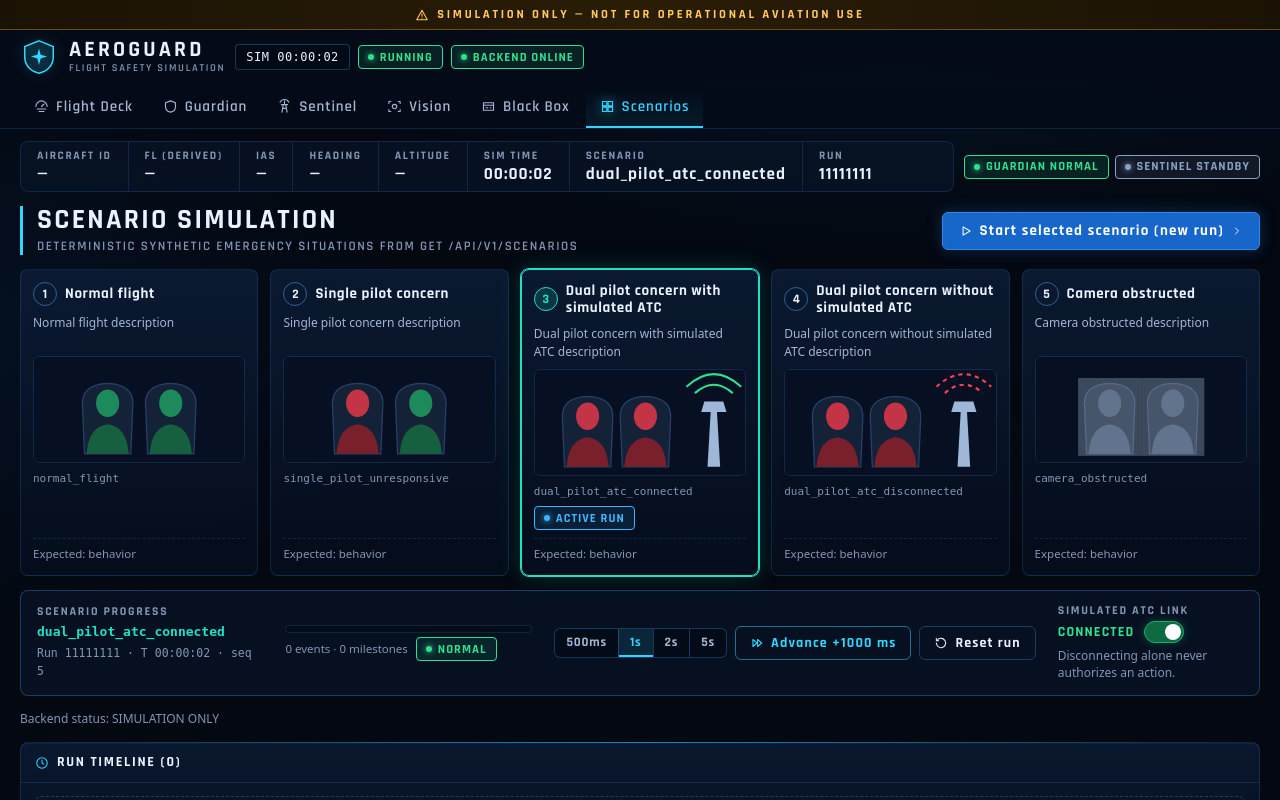
Test: REVIEW FIX 1: command-side HTTP 5xx is an uncertain outcome › does not report a 5xx as a backend rejection and retries with the SAME command_id
Click the button "Advance +1000 ms" at x=823, y=643, box [735,626,912,660]
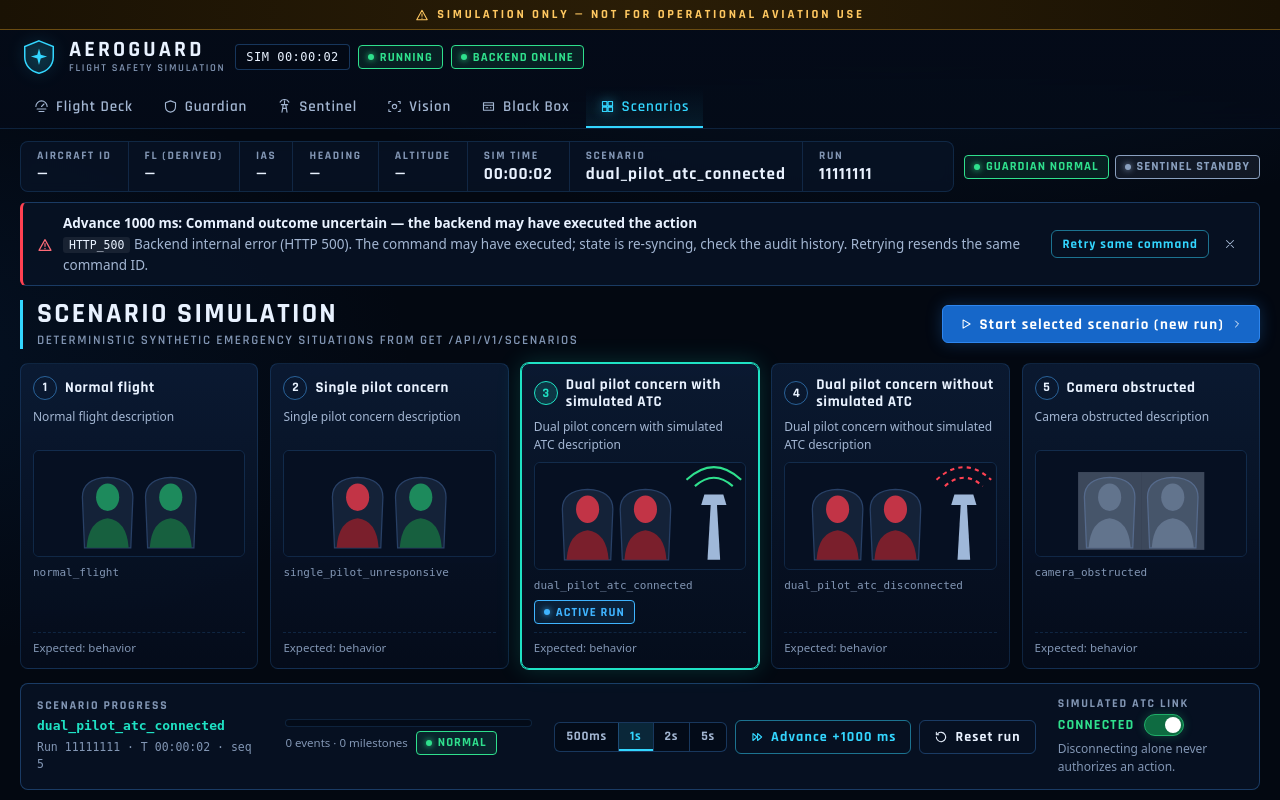
Expected: the text "Command outcome uncertain" is shown, [186,214,697,232]
Click the button "Retry same command" at x=1130, y=244, box [1052,230,1209,258]
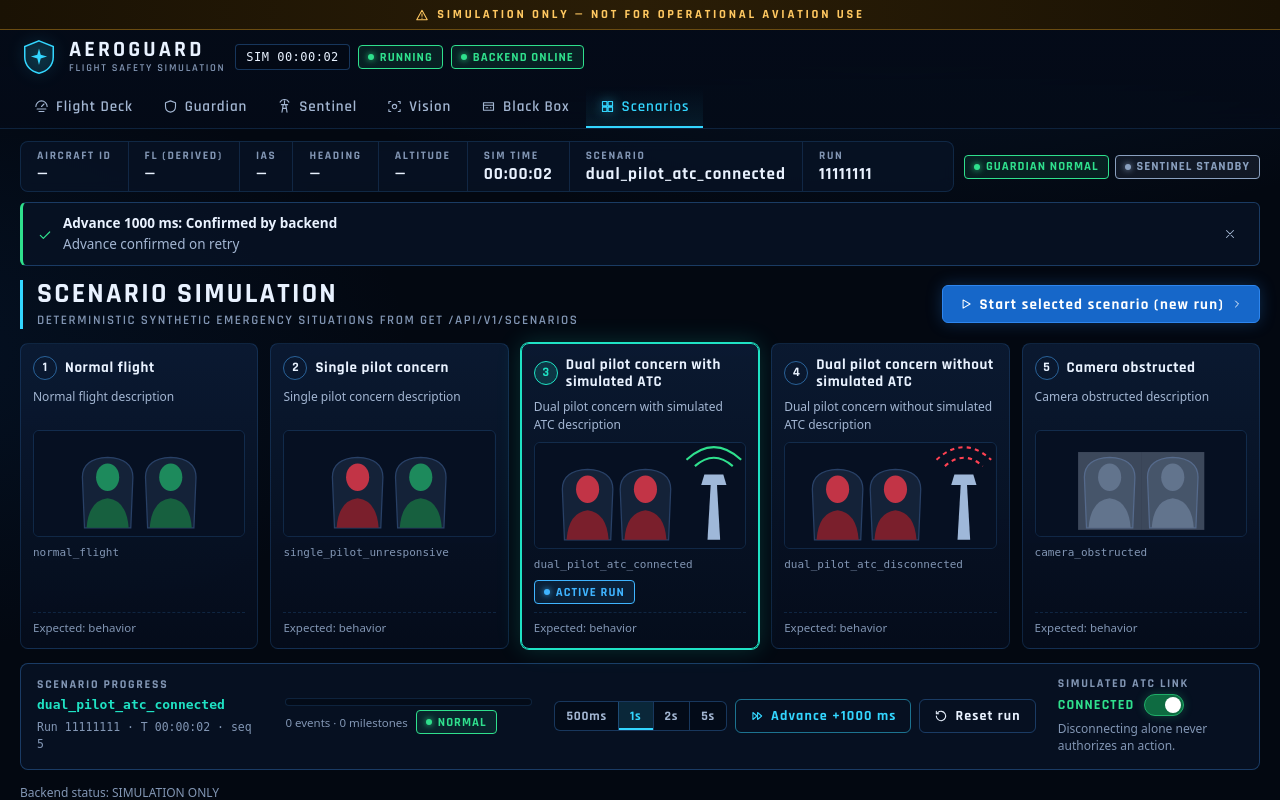
Expected: the text "Advance confirmed on retry" is shown, [63,235,239,253]
